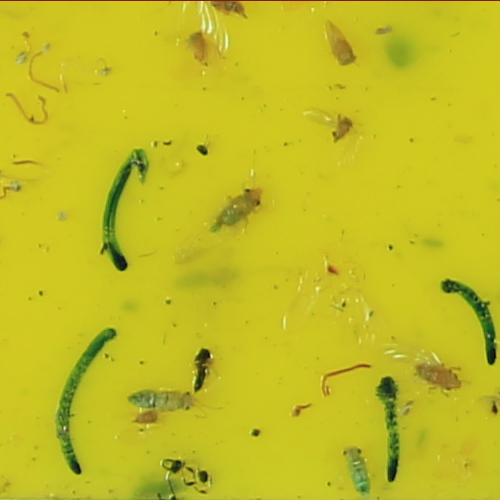Glycaspis: (210, 181, 263, 232), (410, 359, 465, 397), (127, 390, 196, 413), (340, 444, 369, 495)
Platyobria: (325, 20, 359, 70), (192, 32, 210, 65)
psylla: (333, 112, 353, 140)
